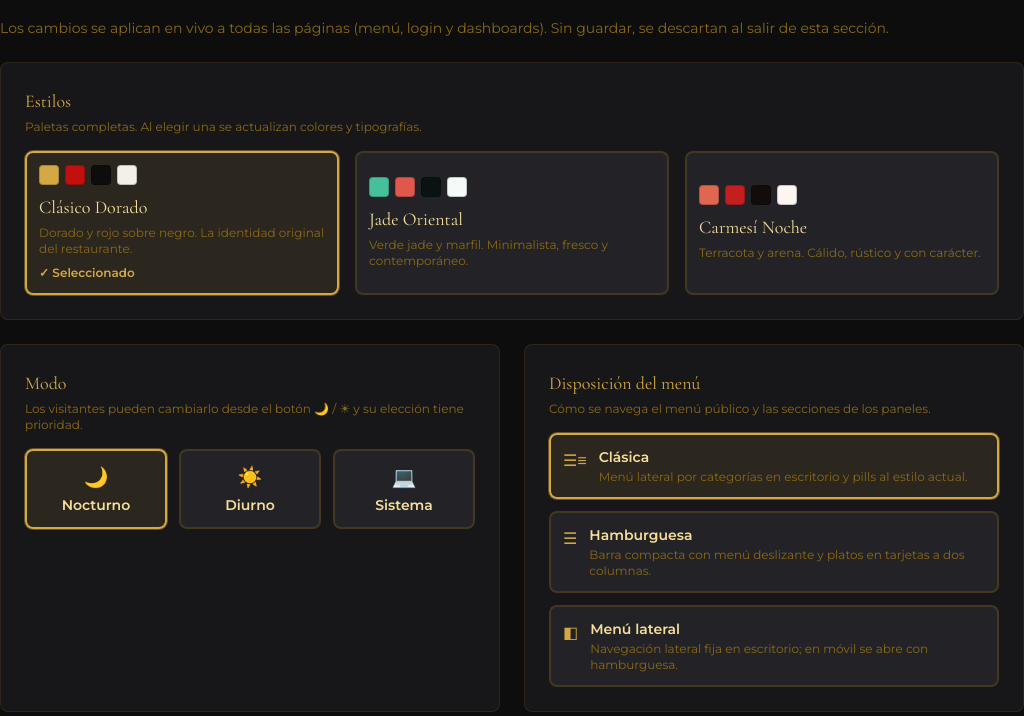
permite cambiar de estilo (preset) con sus colores y tipografías
Click the button "Jade Oriental".
click(416, 219)  # box [355, 151, 669, 295]
(page scrolled)
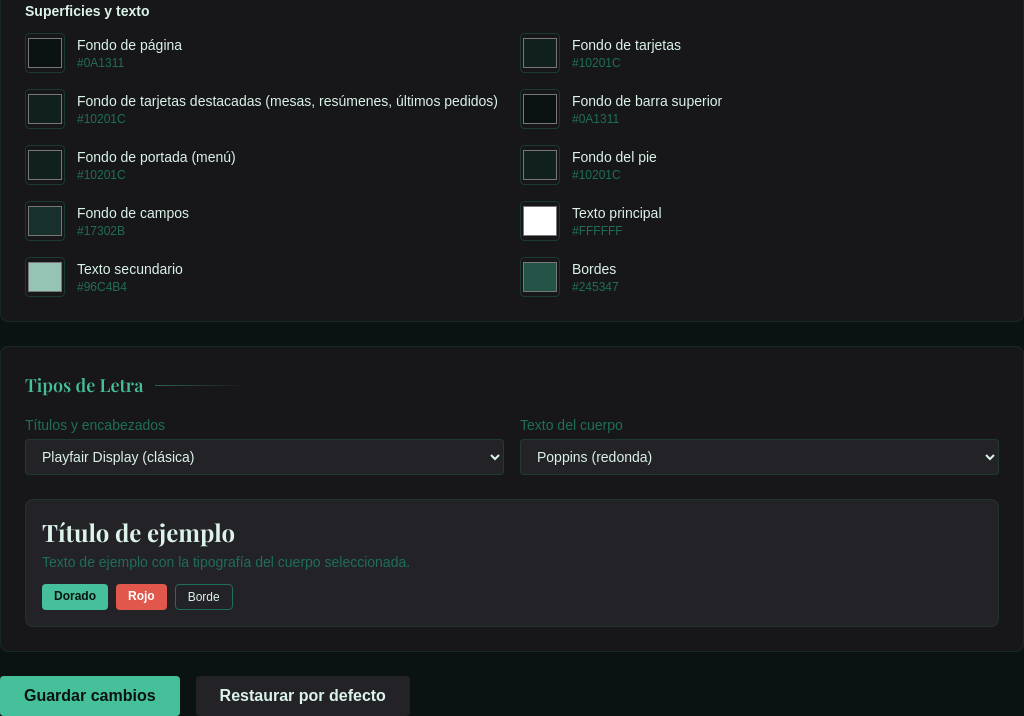
Click the button "Guardar cambios".
click(90, 696)  # box [0, 676, 180, 715]
(page scrolled)
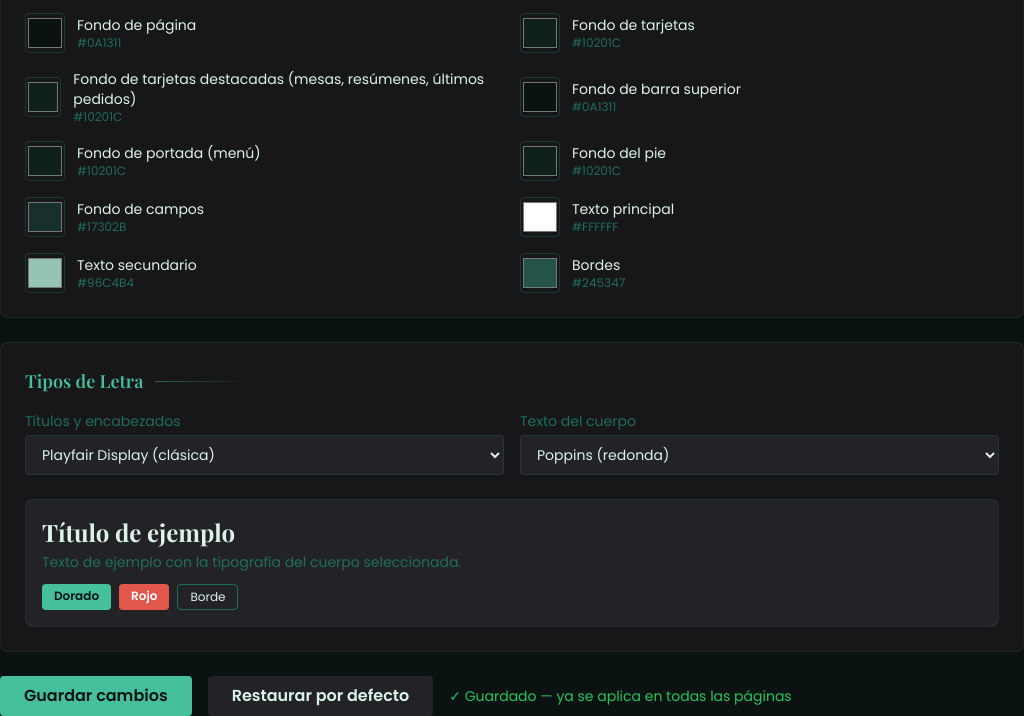
Now the text "✓ Guardado — ya se aplica en todas las páginas" is shown, box [449, 686, 792, 706]
